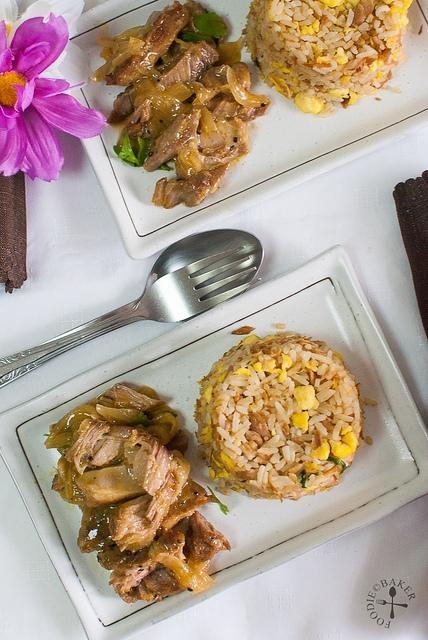onion: (90, 36, 144, 82), (44, 404, 103, 444), (226, 64, 270, 109), (134, 88, 186, 120), (156, 553, 196, 591), (192, 98, 220, 136), (96, 404, 141, 426), (214, 35, 244, 67), (178, 146, 204, 180), (191, 560, 216, 595), (148, 412, 178, 441), (115, 25, 144, 42), (96, 38, 130, 52), (147, 426, 170, 446), (46, 432, 74, 448), (65, 462, 75, 500), (196, 87, 214, 105), (132, 76, 154, 88)
